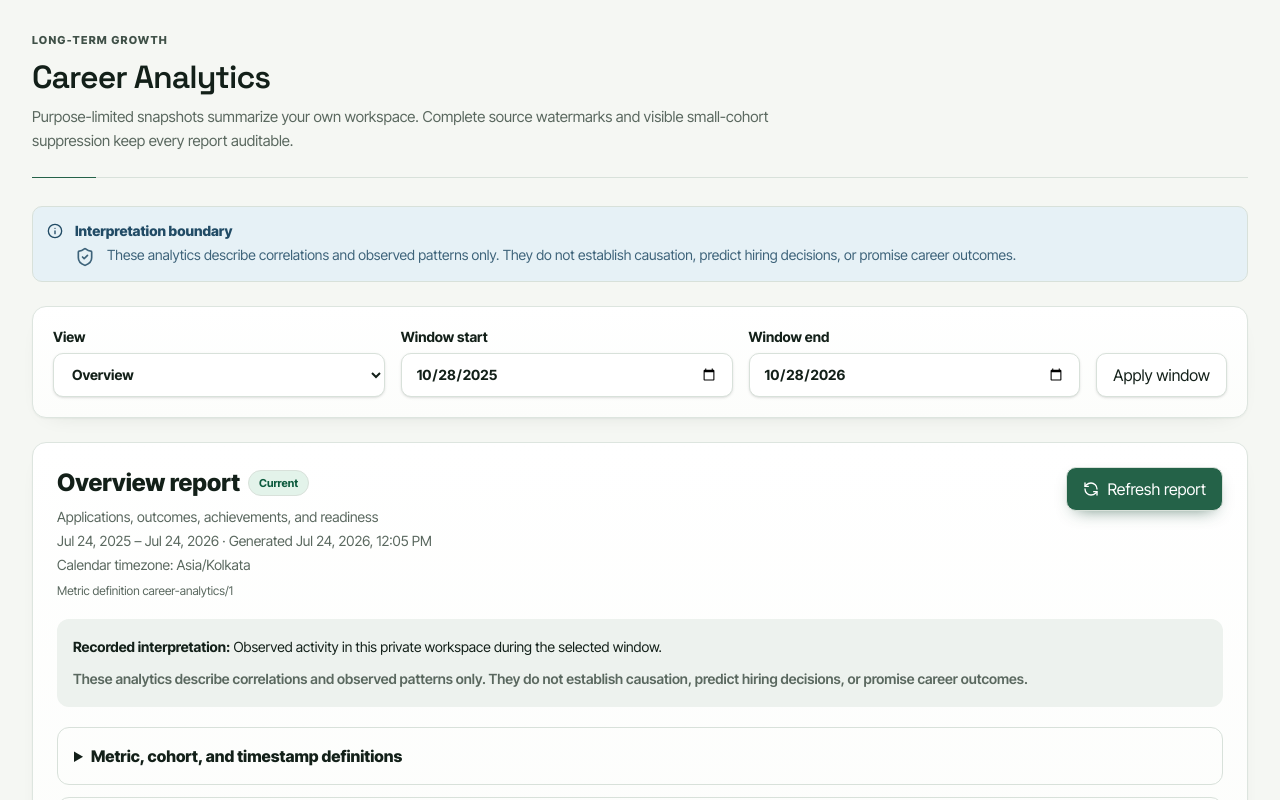
it: Career Analytics view › deduplicates overlapping refresh clicks for the same filter intent
The width and height of the screenshot is (1280, 800).
Expected: the heading "Overview report" is shown, [57, 466, 240, 498]
Click the button "Refresh report".
click(1145, 488)  # box [1066, 466, 1223, 510]
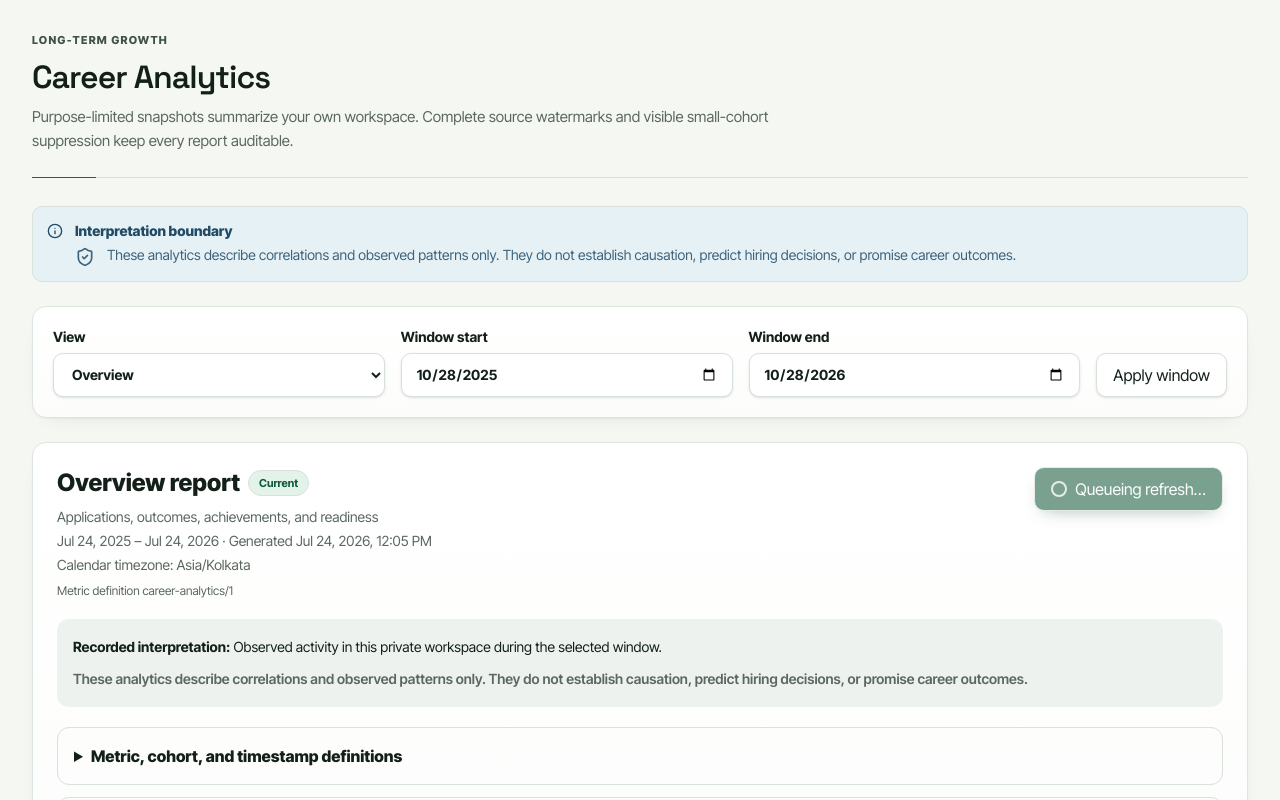
Click the button named "Refresh report".
click(1129, 488)  # box [1034, 466, 1223, 510]
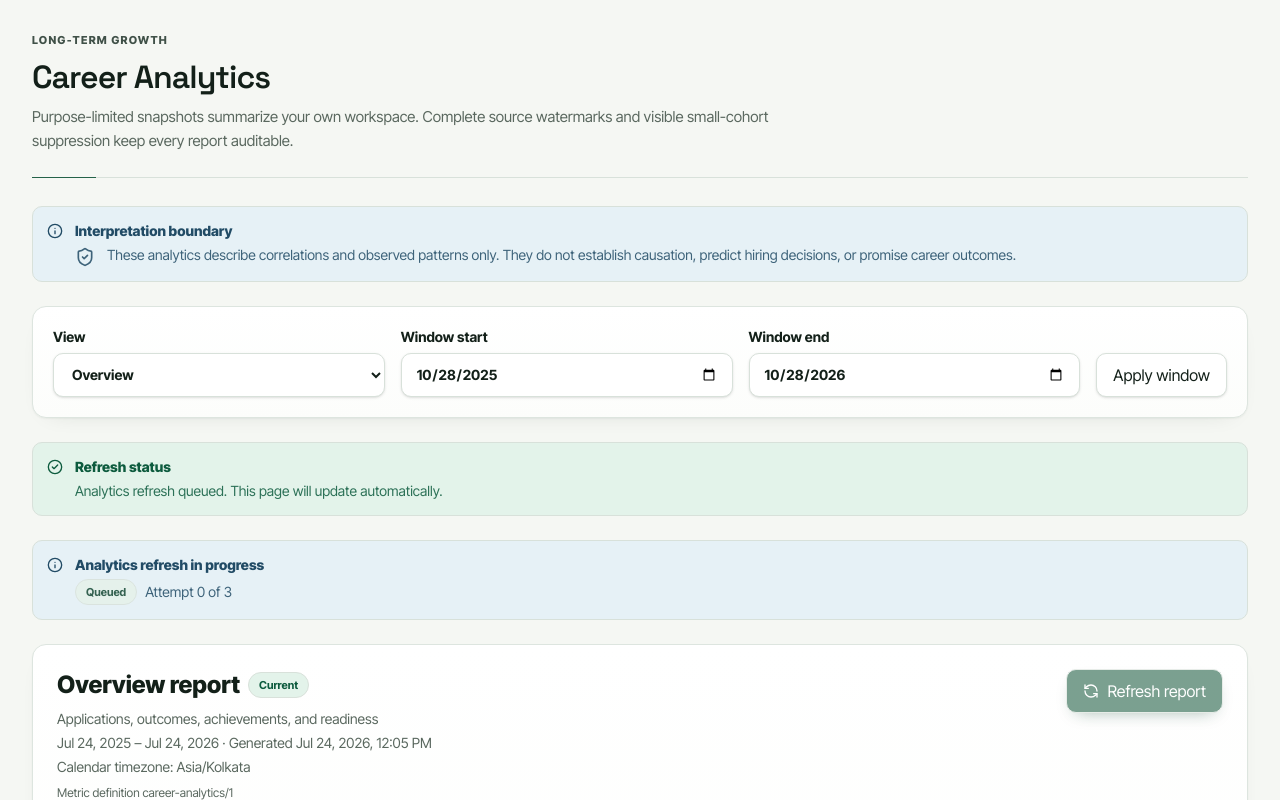
Result: the text "Analytics refresh queued. This page will update automatically." is shown at [75, 480, 442, 500]
